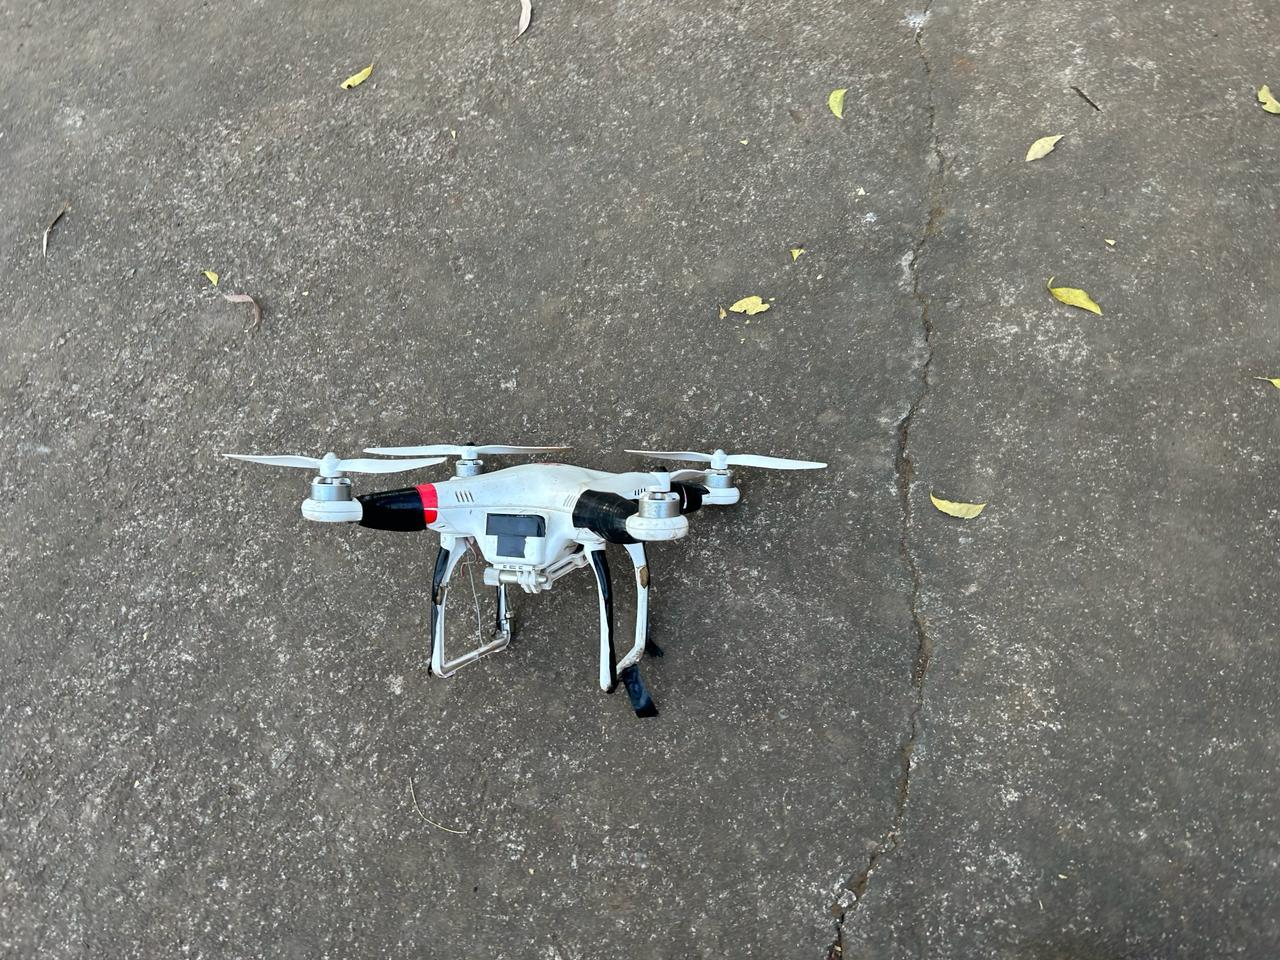drone: (188, 398, 846, 740)
